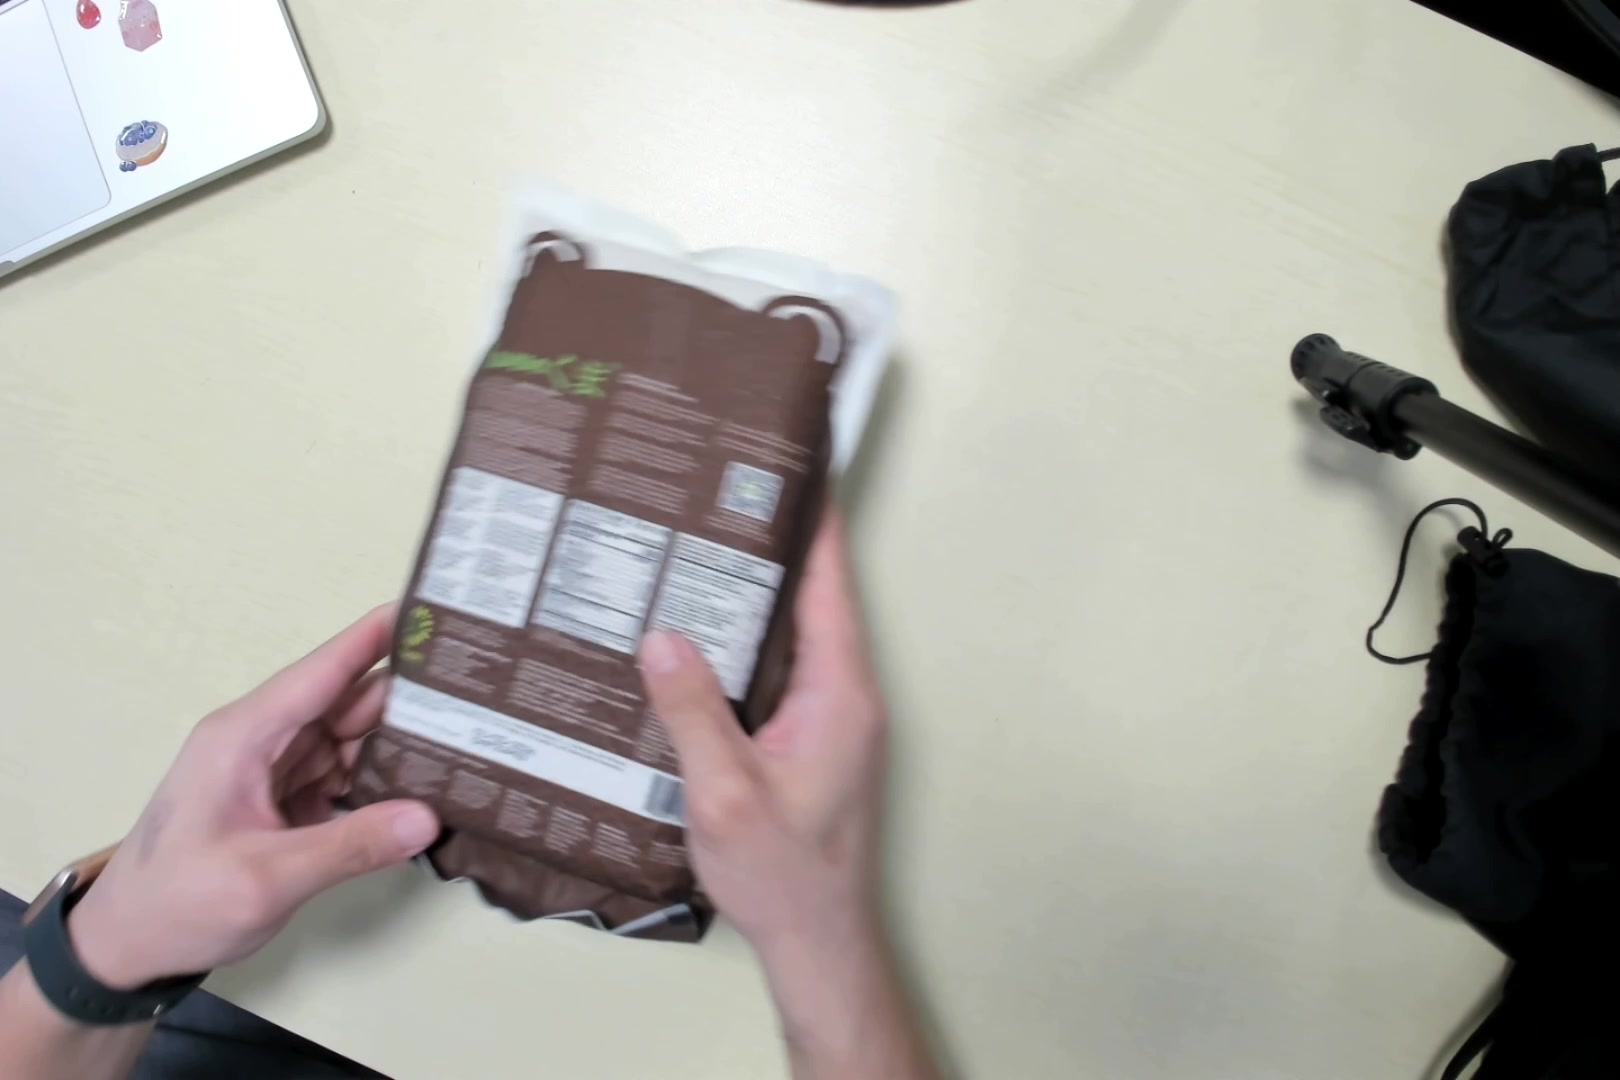Rice(BrownOthers)_500-599g_NonHalal_Healthy: (356, 202, 835, 927)
